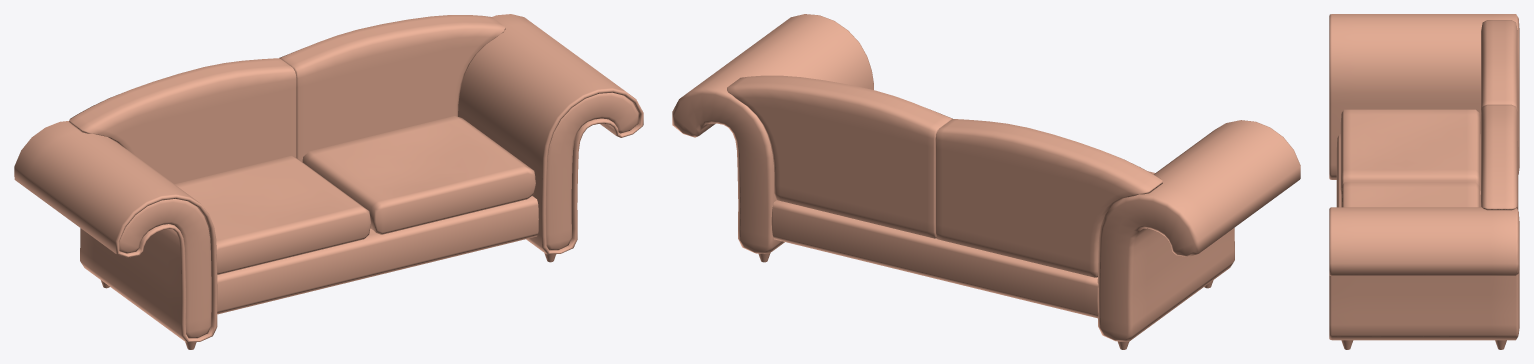
File: sofa_textured_simur2.fbx
3 views of the same model, side by side, from view 1: azimuth 30°, elevation 25°; view 2: azimuth 150°, elevation 25°; view 3: azimuth 270°, elevation 25° (orthographic). The views are drawn at different scales.
Visible parts, largest first — view 1: curve4; view 2: curve4; view 3: curve4.
Part boxes in pixels (x1,y1,x2,y2): curve4: (14, 14, 643, 349); curve4: (672, 14, 1300, 349); curve4: (1329, 14, 1519, 349).
Size of the model in its own units: 186 by 64.25 by 63.95.
